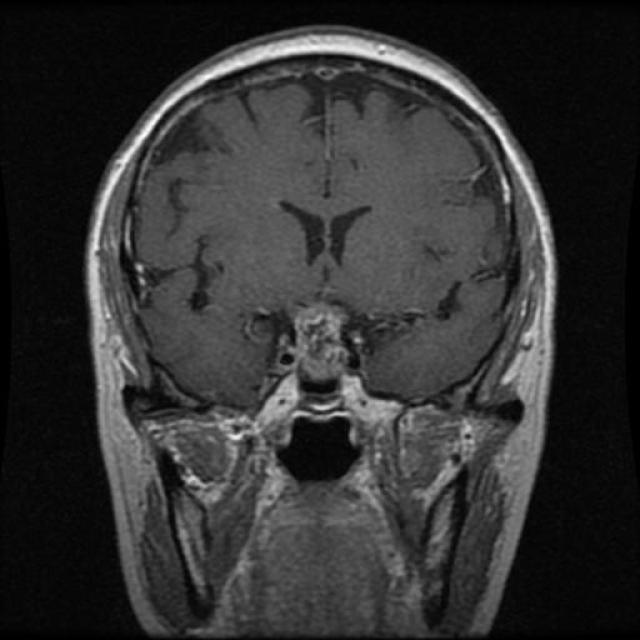pituitary: (278, 298, 370, 426)
